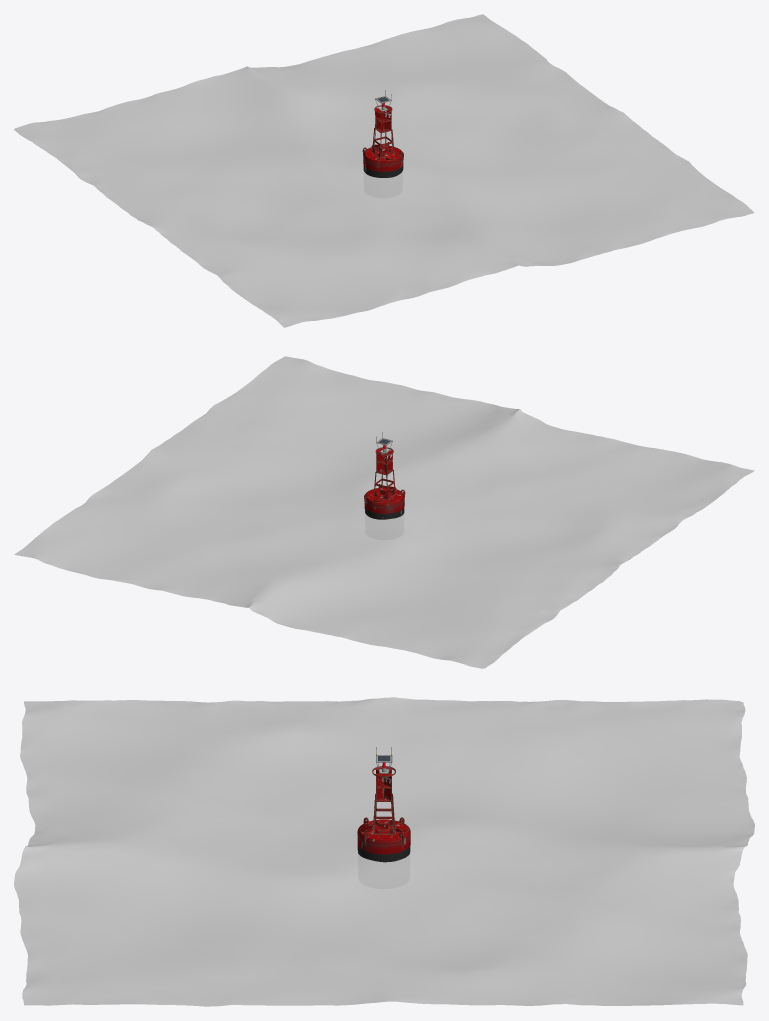
Rendered from buoy.obj.
3 renders of one model, top to bottom at view 1: azimuth 30°, elevation 25°; view 2: azimuth 150°, elevation 25°; view 3: azimuth 270°, elevation 25°, orthographic. The views are drawn at different scales.
Parts seen in each view (by area): view 1: obj2, obj1; view 2: obj2, obj1; view 3: obj2, obj1.
Boxes of the visible parts, x1,y1,x2,y2 form: obj2: (14, 14, 754, 327); obj1: (362, 90, 403, 177); obj2: (14, 356, 754, 668); obj1: (364, 432, 405, 519); obj2: (14, 697, 754, 1006); obj1: (357, 747, 410, 862).
Bounding box in the file's own units: 27.26 × 5.34 × 27.83.
